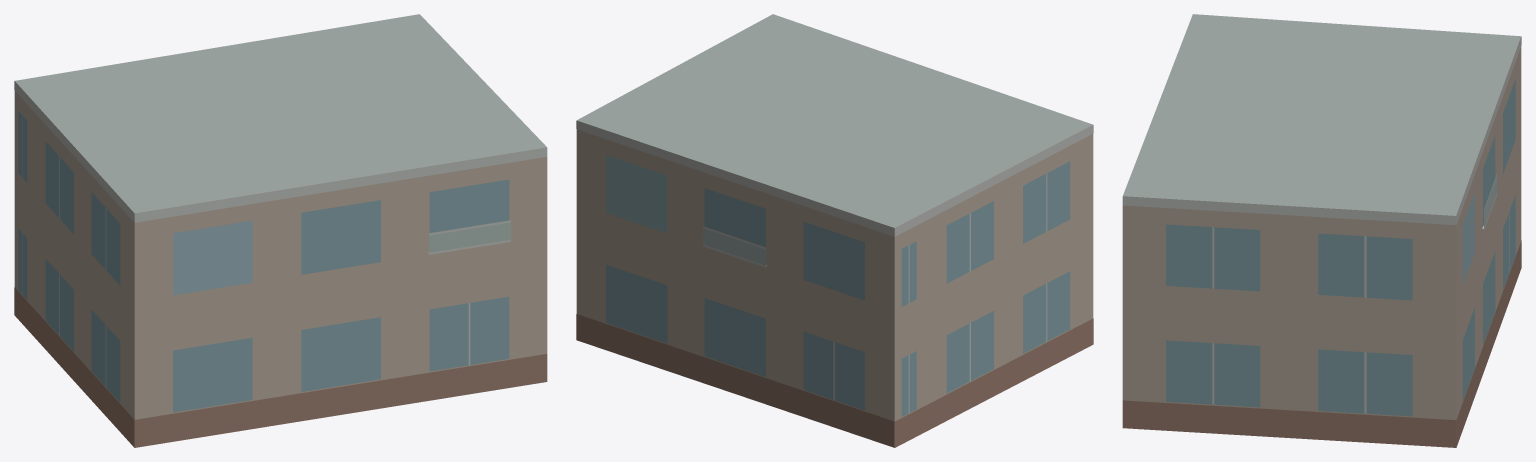
The model's file is survey-upis-32610755.glb.
3 renders of one model, left to right at view 1: azimuth 30°, elevation 25°; view 2: azimuth 150°, elevation 25°; view 3: azimuth 270°, elevation 25°, orthographic. The views are drawn at different scales.
Parts seen in each view (by area): view 1: survey-upis-32610755.tmp; view 2: survey-upis-32610755.tmp; view 3: survey-upis-32610755.tmp.
Boxes of the visible parts, x1,y1,x2,y2 form: survey-upis-32610755.tmp: (14,14,547,447); survey-upis-32610755.tmp: (576,14,1093,447); survey-upis-32610755.tmp: (1122,14,1521,447).
Bounding box in the file's own units: 11.4 × 6.1 × 9.52.
